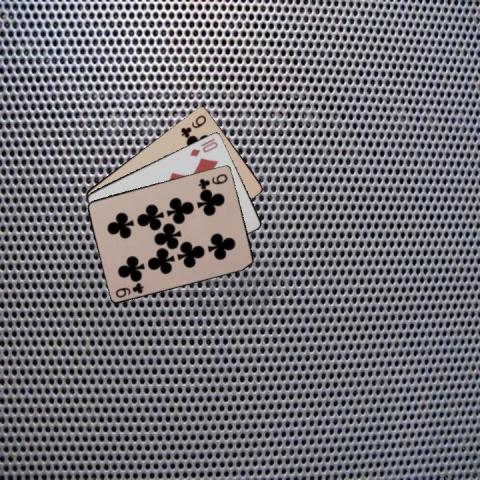10d: (187, 138, 219, 158)
9c: (177, 112, 208, 137), (113, 279, 145, 299), (196, 170, 229, 188)
